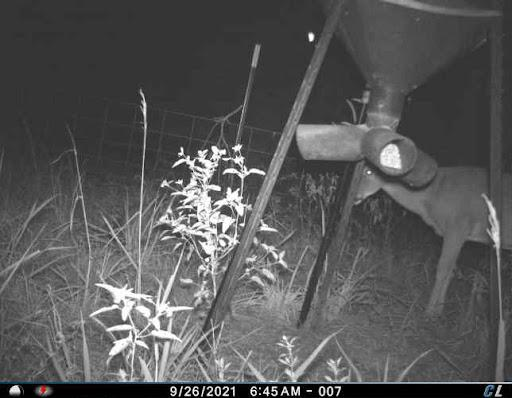Deer: (334, 91, 512, 331)
